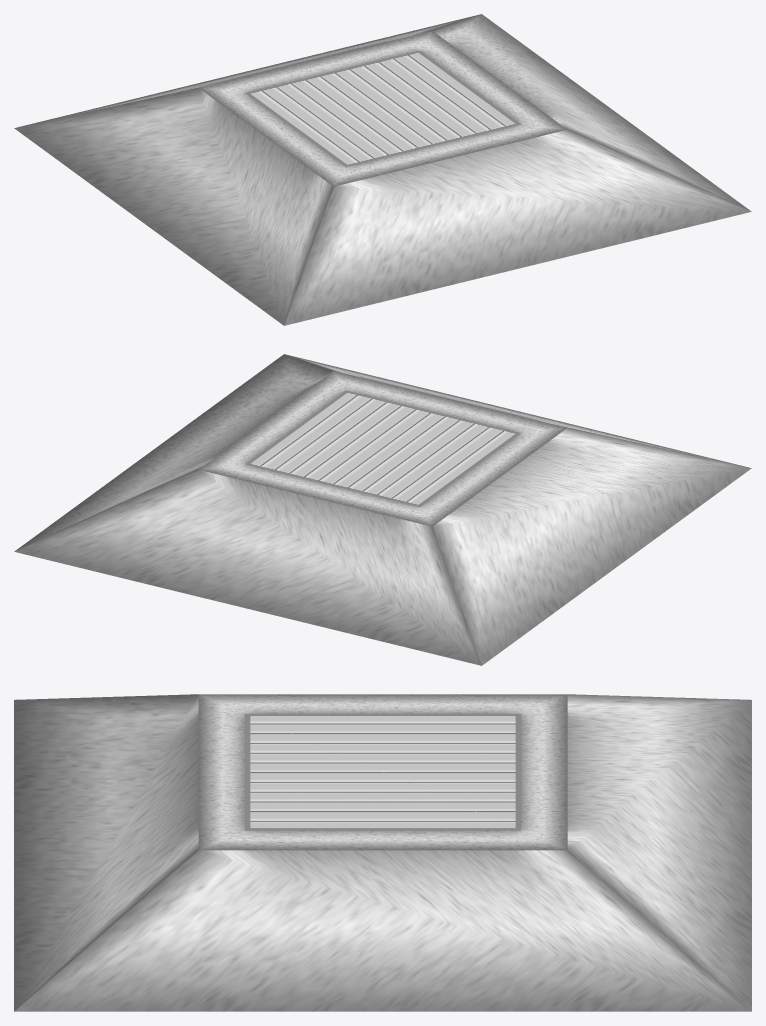
Rendered from block-riser.fbx.
3 renders of one model, top to bottom at view 1: azimuth 30°, elevation 25°; view 2: azimuth 150°, elevation 25°; view 3: azimuth 270°, elevation 25°, orthographic. The views are drawn at different scales.
Visible parts, largest first — view 1: riser; view 2: riser; view 3: riser.
Boxes of the visible parts, <box> form: riser: <box>14,14,751,325</box>; riser: <box>14,354,751,665</box>; riser: <box>14,694,751,1011</box>.
Size of the model in its own units: 400 by 50 by 400.
1 material, 1 textured.
